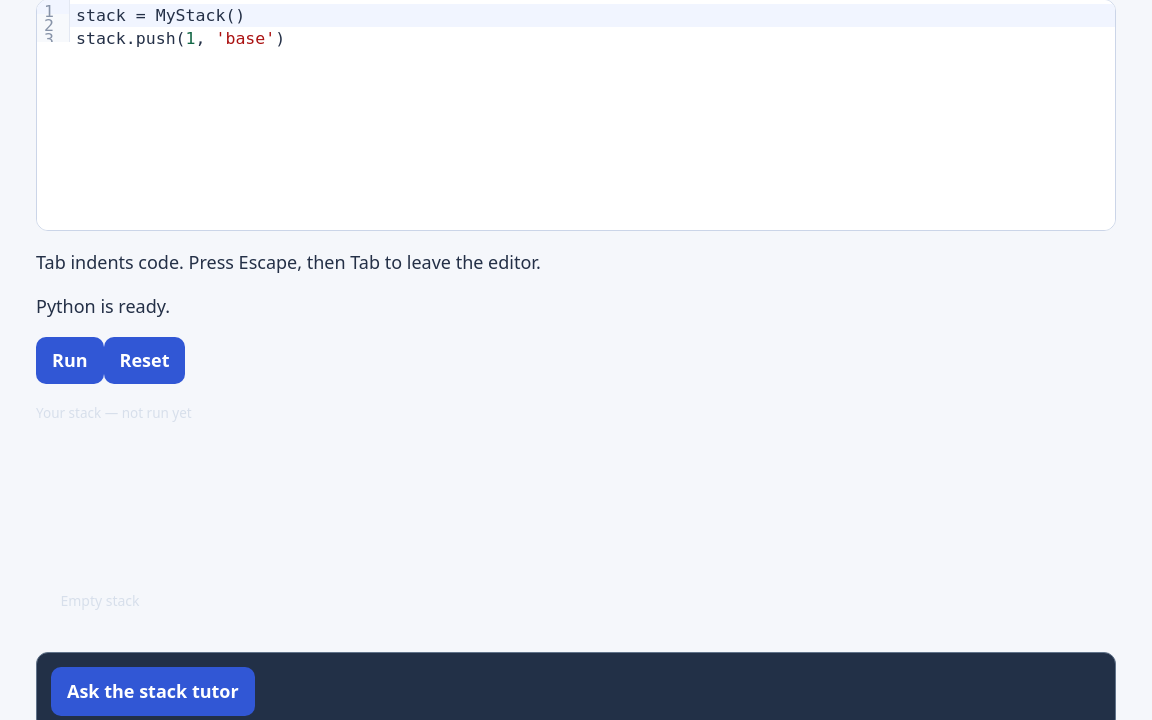
Test: StairwayRepairRoom › reveals the reward when the run matches the target
The image size is (1152, 720).
(page scrolled)
What coordinates should you click on to do the following:
click the button "Run"
I would click on:
 (70, 361)
Its box is [36,338,104,384].
(page scrolled)
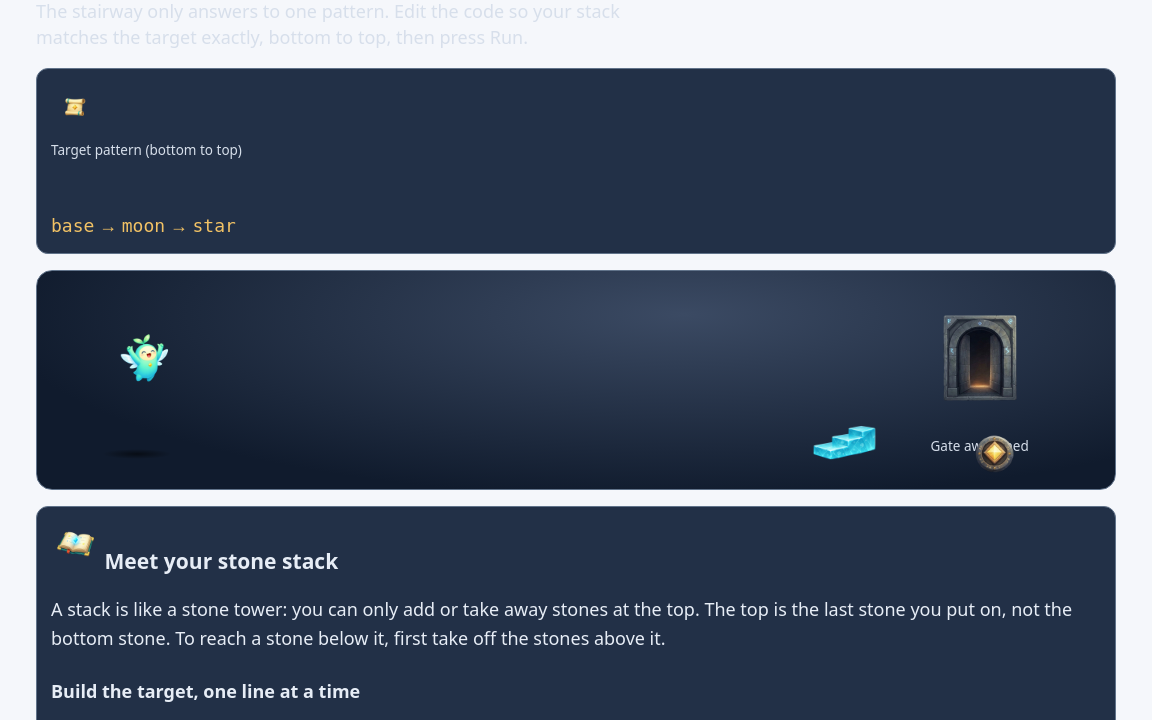
Check: the picture with alt text "The guide sprite, celebrating" is shown, box [102,311,198,407]
Check: the picture with alt text "An open stone ruins door" is shown, box [930,297,1026,425]
